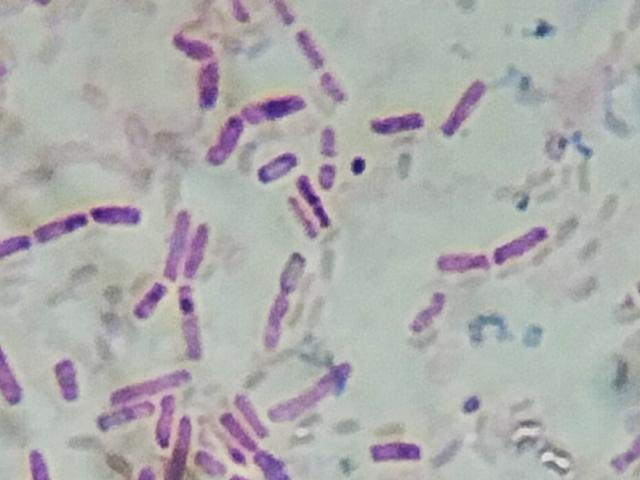E. coli: (263, 359, 362, 431), (441, 76, 487, 143), (493, 220, 552, 269), (402, 287, 449, 343), (0, 338, 36, 409), (362, 105, 429, 143), (176, 283, 208, 362), (203, 109, 241, 166), (36, 203, 90, 242), (112, 367, 187, 395), (246, 89, 309, 122), (363, 435, 427, 467), (436, 245, 494, 280), (299, 176, 336, 229), (91, 196, 144, 233), (170, 416, 201, 478), (132, 280, 172, 328), (95, 400, 153, 433), (259, 285, 290, 346), (271, 250, 311, 290), (53, 352, 83, 405), (231, 392, 264, 439), (186, 221, 211, 280), (166, 199, 186, 272), (158, 392, 184, 448), (258, 148, 297, 184), (21, 441, 56, 480), (611, 433, 640, 480), (288, 196, 318, 240), (0, 227, 32, 267), (218, 413, 249, 451), (198, 60, 220, 111), (293, 27, 322, 64), (193, 452, 231, 479), (318, 70, 346, 106), (253, 449, 289, 477), (179, 33, 218, 58), (223, 0, 252, 32), (263, 0, 299, 22), (316, 160, 338, 190), (319, 122, 335, 155)
